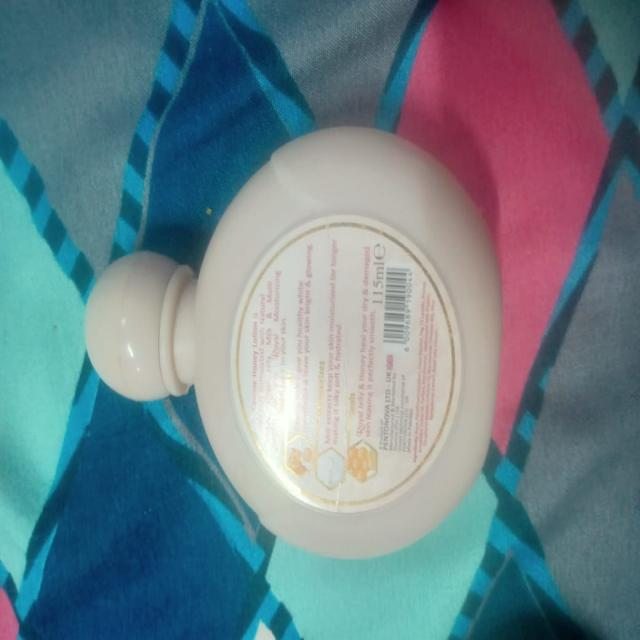lotion: (69, 110, 517, 597)
